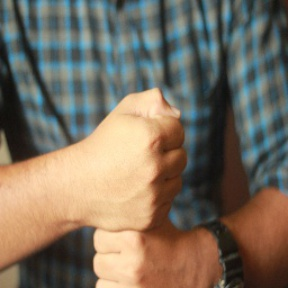G: (87, 83, 191, 288)
